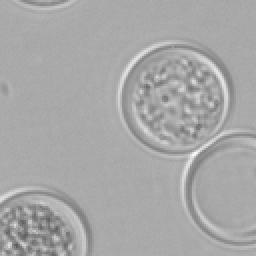picoshell: (118, 42, 232, 156), (180, 130, 254, 246), (0, 186, 88, 254), (12, 0, 76, 10)
